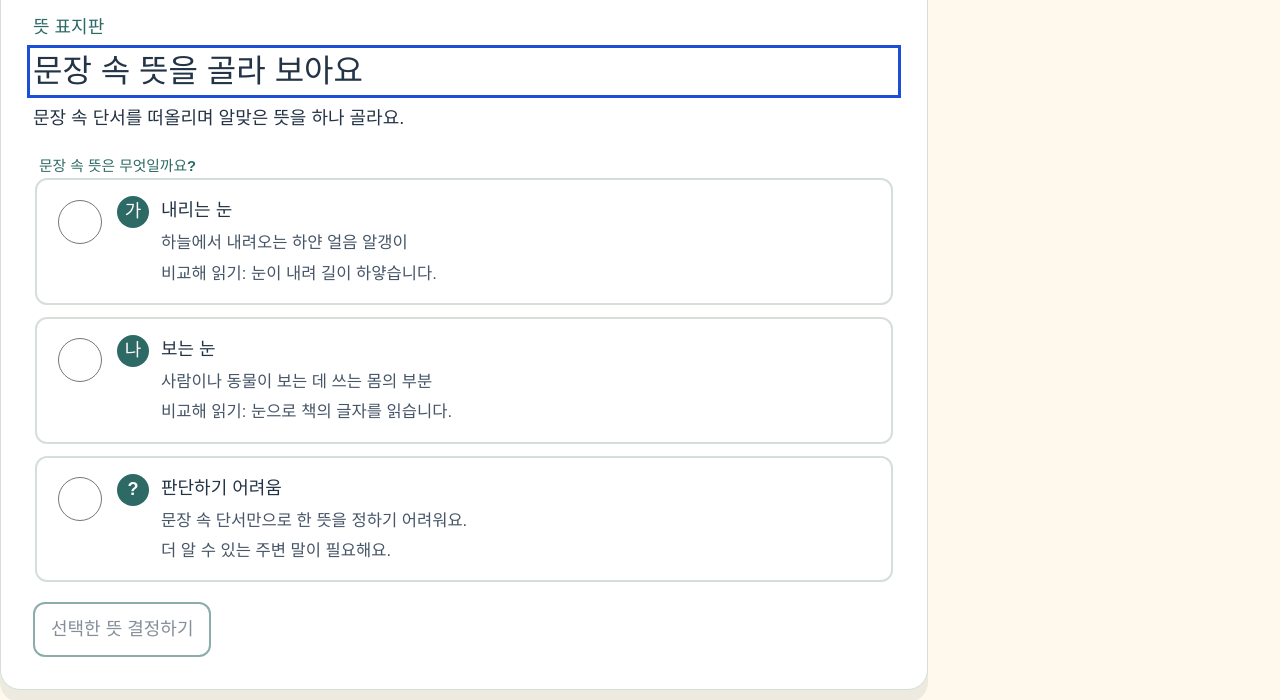
MeaningSignpostScreen › keeps wrong meaning feedback visible and retries the selected meaning
Click the radio button labelled "나 보는 눈 사람이나 동물이 보는 데 쓰는 몸의 부분 비교해 읽기: 눈으로 책의 글자를 읽습니다." at (80, 360), box [58,338,102,382]
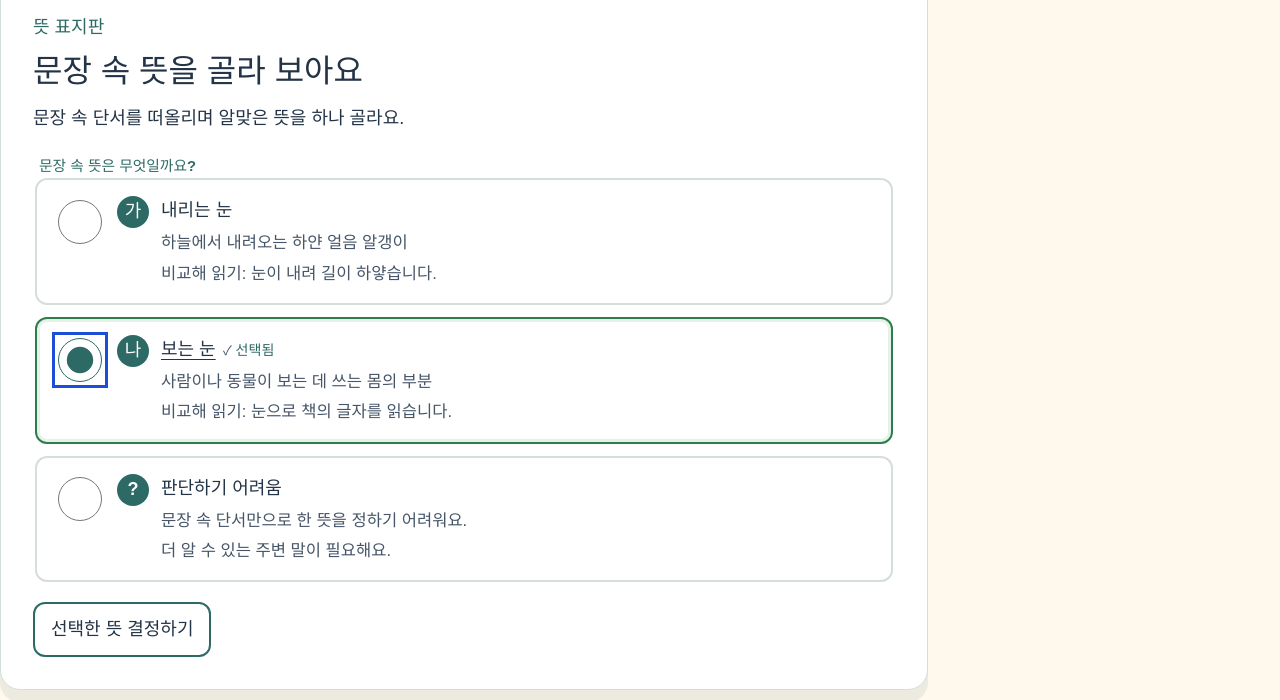
Click the button "선택한 뜻 결정하기" at (122, 630), box [33,602,212,657]
(page scrolled)
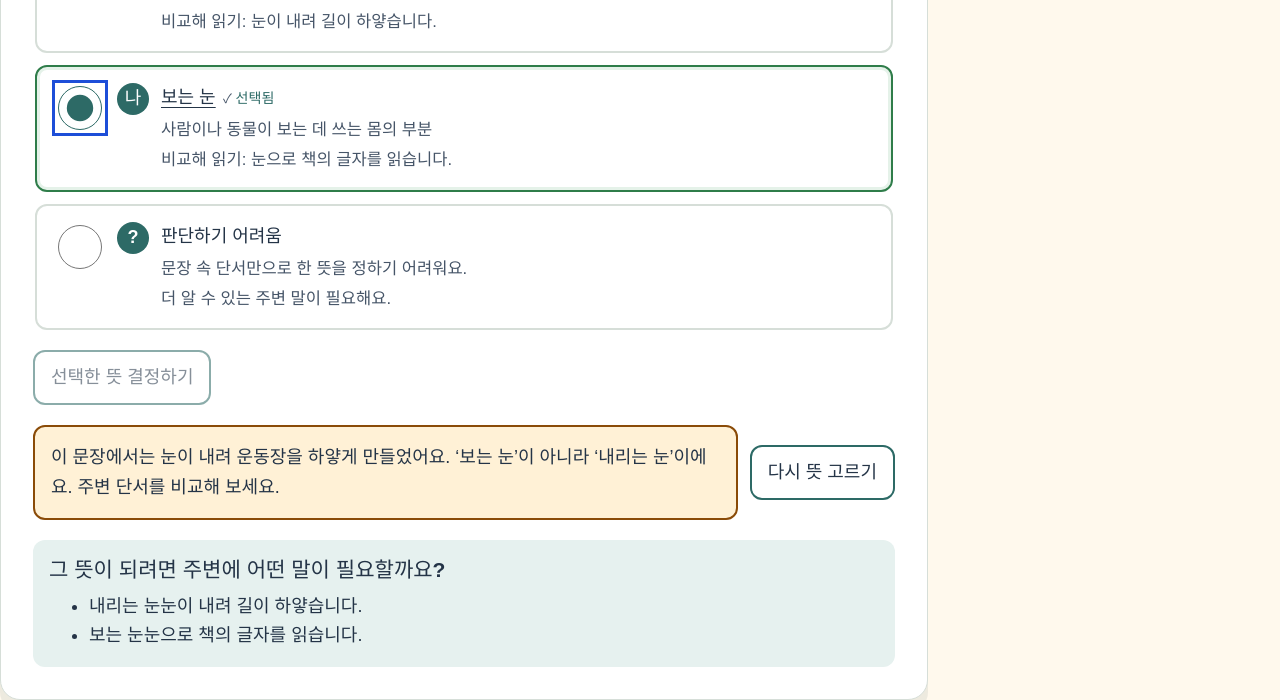
Expected: the element with test id "meaning-feedback" is shown, [33,425,738,520]
Expected: the button "다시 뜻 고르기" is shown
Expected: the button "선택한 뜻 결정하기" is disabled, [33,350,212,405]
Click the button "다시 뜻 고르기" at (822, 473), box [750,445,895,500]
(page scrolled)
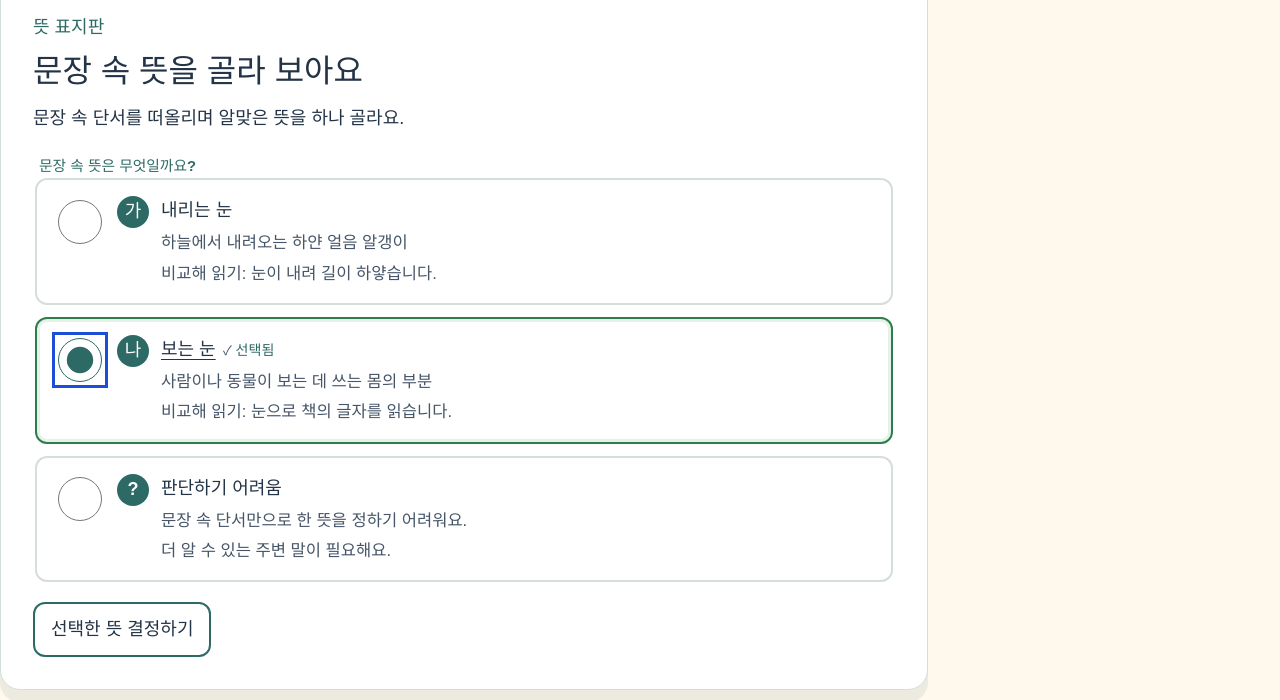
Expected: the radio button labelled "나 보는 눈 ✓ 선택됨 사람이나 동물이 보는 데 쓰는 몸의 부분 비교해 읽기: 눈으로 책의 글자를 읽습니다." is checked, [58,338,102,382]
Expected: the button "선택한 뜻 결정하기" is enabled, [33,602,212,657]
